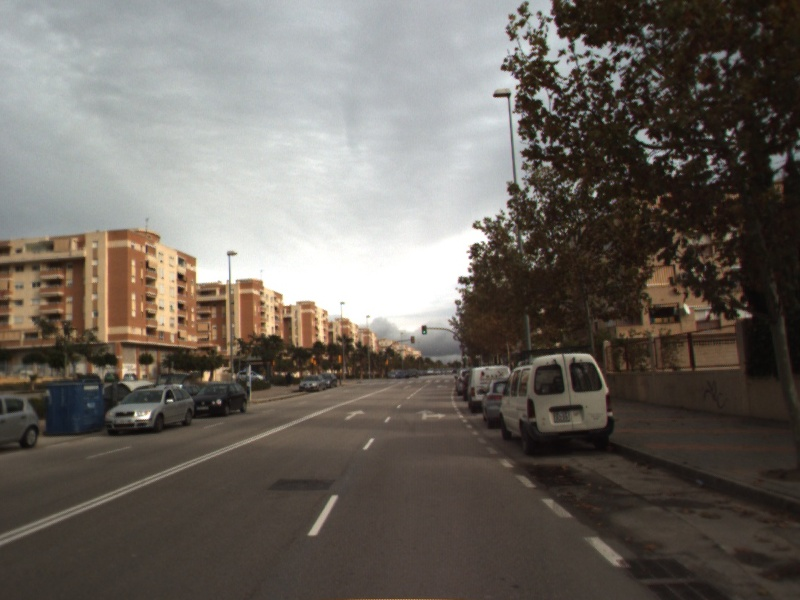STRAIGHT: (342, 407, 367, 422)
STRAIGHT_RIGHT: (414, 407, 448, 421)
